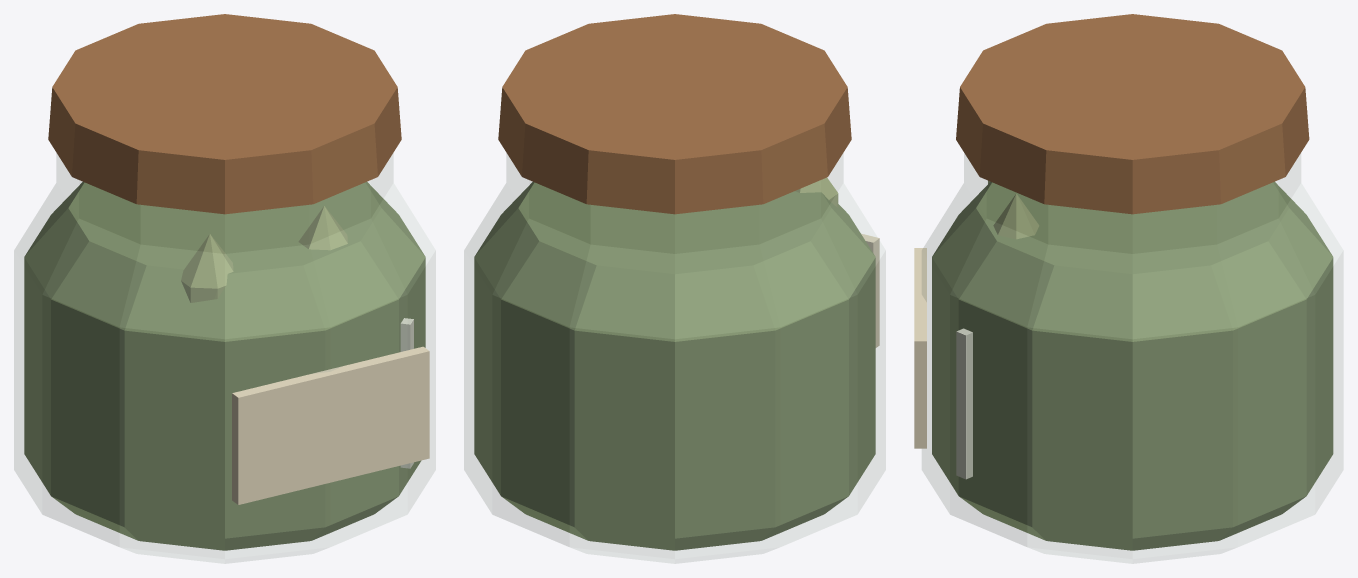
The model's file is pickle.glb.
3 renders of one model, left to right at view 1: azimuth 30°, elevation 25°; view 2: azimuth 150°, elevation 25°; view 3: azimuth 270°, elevation 25°, orthographic.
Visible parts, largest first — view 1: geometry, glass; view 2: geometry, glass; view 3: geometry, glass.
Boxes of the visible parts, bbox=[...] form: geometry: bbox=[24, 14, 429, 550]; glass: bbox=[14, 154, 435, 563]; geometry: bbox=[474, 14, 879, 550]; glass: bbox=[464, 154, 885, 563]; geometry: bbox=[914, 14, 1333, 550]; glass: bbox=[922, 153, 1343, 563].
Bounding box in the file's own units: 0.399 × 0.42 × 0.4059.
